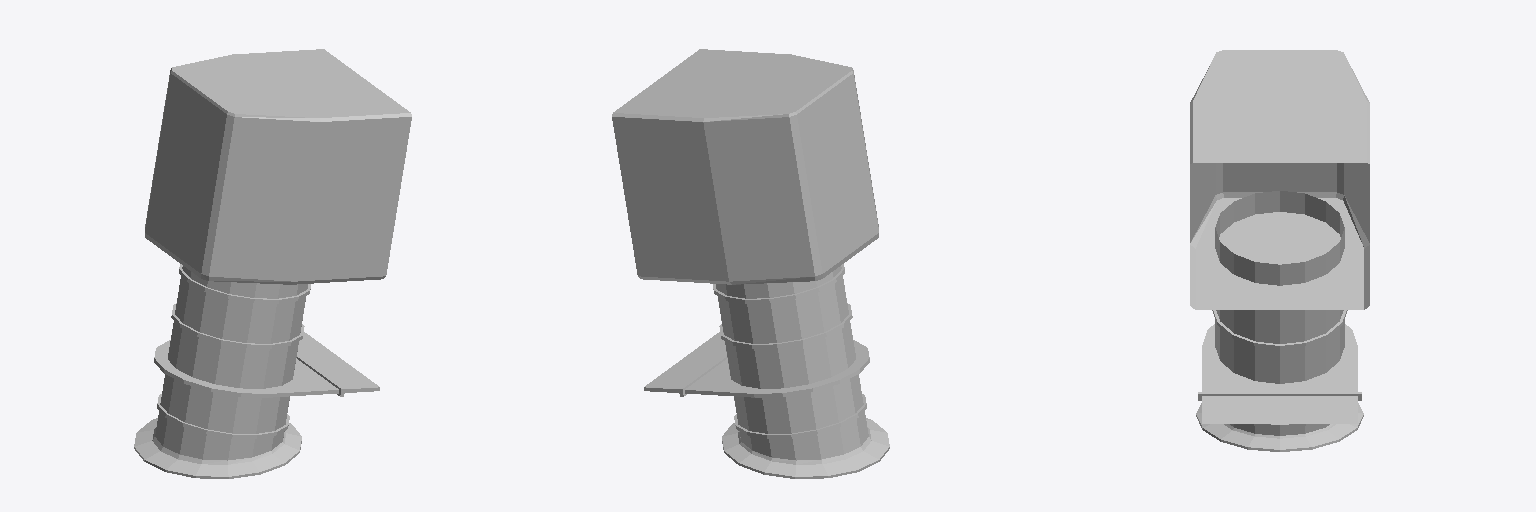
Rendered from bigpipe.obj.
The picture shows the model from 3 angles: view 1: azimuth 30°, elevation 25°; view 2: azimuth 150°, elevation 25°; view 3: azimuth 270°, elevation 25°; orthographic projection.
Visible parts, largest first — view 1: Circle_Circle.001; view 2: Circle_Circle.001; view 3: Circle_Circle.001.
Part boxes in pixels (x1,y1,x2,y2): Circle_Circle.001: (134, 49, 411, 478); Circle_Circle.001: (612, 49, 889, 478); Circle_Circle.001: (1190, 50, 1369, 451).
Size of the model in its own units: 15.92 by 24.39 by 11.15.